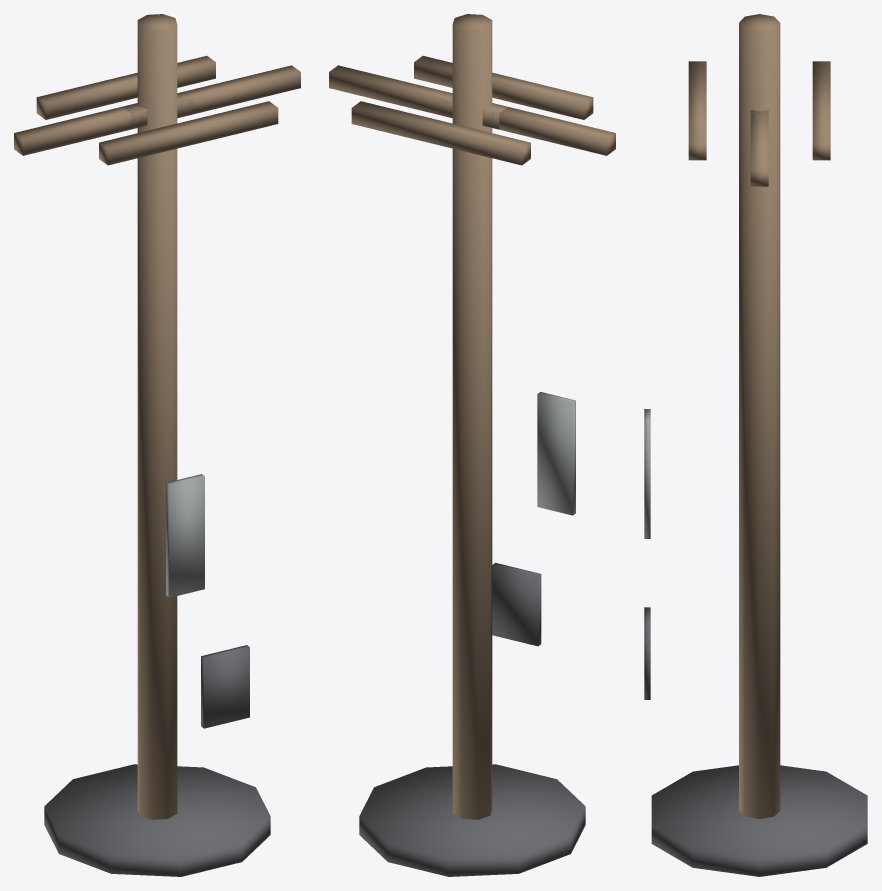
File: coat_rack__weathered.glb
3 renders of one model, left to right at view 1: azimuth 30°, elevation 25°; view 2: azimuth 150°, elevation 25°; view 3: azimuth 270°, elevation 25°, orthographic.
Visible parts, largest first — view 1: world; view 2: world; view 3: world.
Part boxes in pixels (left/top/right/bottom): world: left=14, top=14, right=300, bottom=876; world: left=329, top=14, right=615, bottom=876; world: left=644, top=14, right=867, bottom=876.
Size of the model in its own units: 0.62 by 1.72 by 0.4325.
